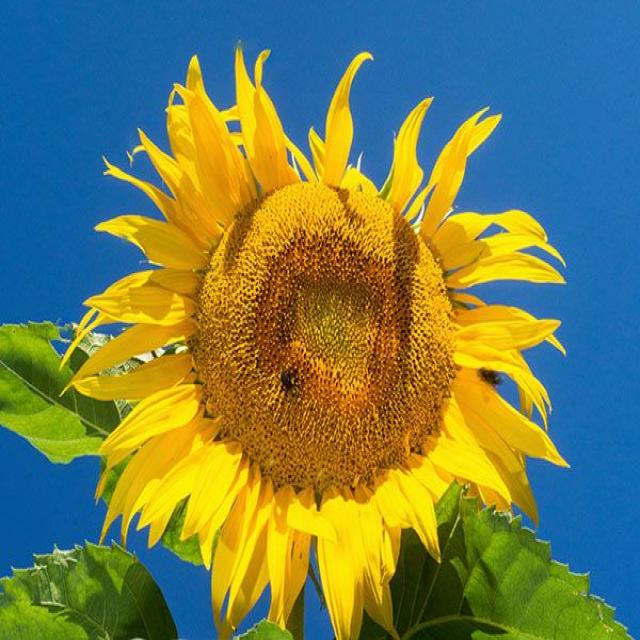sunflower: (69, 13, 576, 640)
